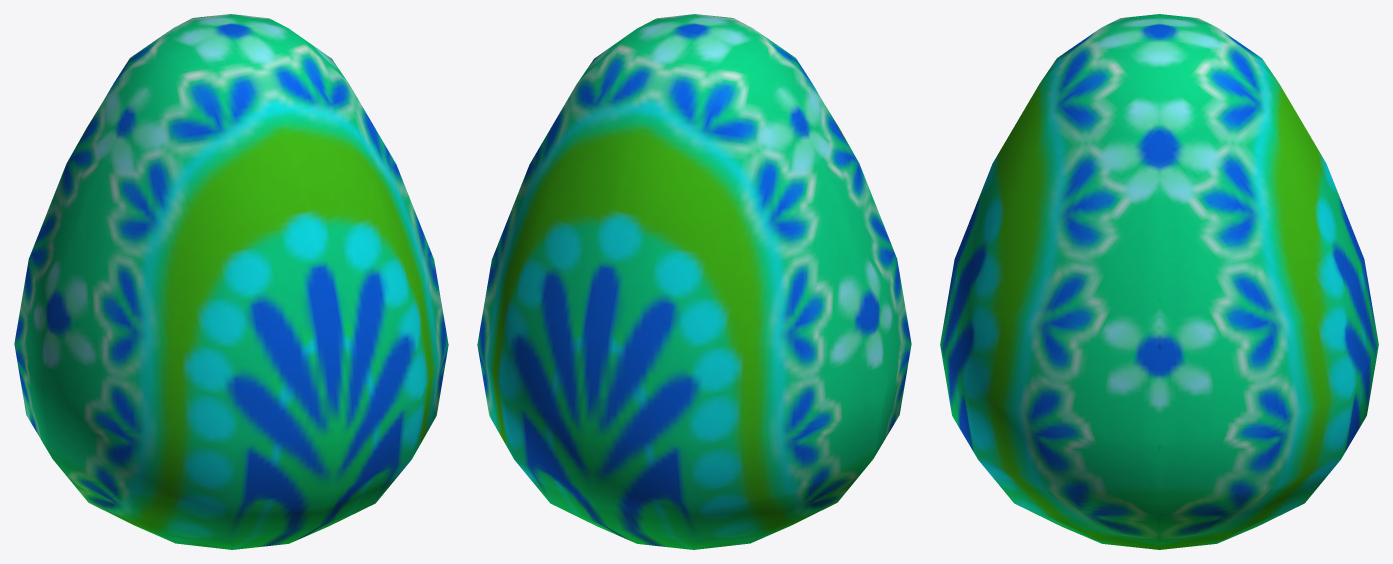
File: Egg_09(HighPoly).FBX
The picture shows the model from 3 angles, left to right: view 1: azimuth 30°, elevation 25°; view 2: azimuth 150°, elevation 25°; view 3: azimuth 270°, elevation 25°; orthographic projection.
Parts seen in each view (by area): view 1: Egg_09(HighPoly); view 2: Egg_09(HighPoly); view 3: Egg_09(HighPoly).
Part boxes in pixels (left/top/right/bottom): Egg_09(HighPoly): left=14, top=14, right=448, bottom=549; Egg_09(HighPoly): left=477, top=14, right=911, bottom=549; Egg_09(HighPoly): left=940, top=14, right=1378, bottom=549.
Bounding box in the file's own units: 0.4668 × 0.5861 × 0.4674.
